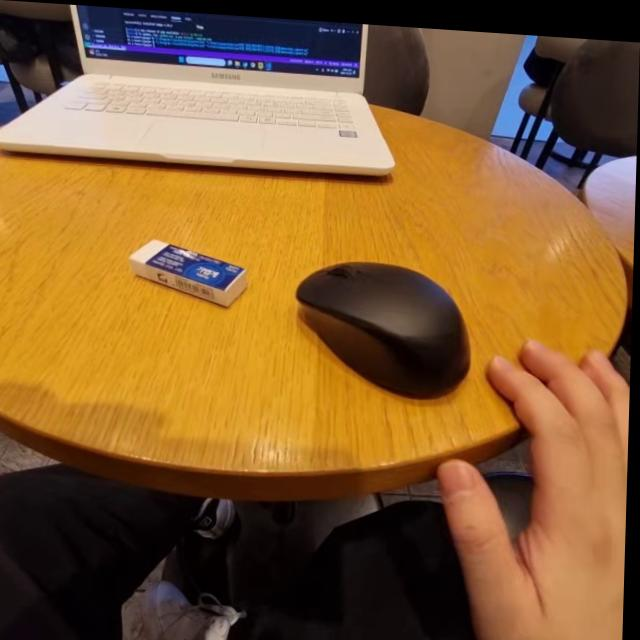eraser: (127, 231, 256, 310)
hand: (492, 326, 633, 640)
mouse: (286, 257, 481, 413)
